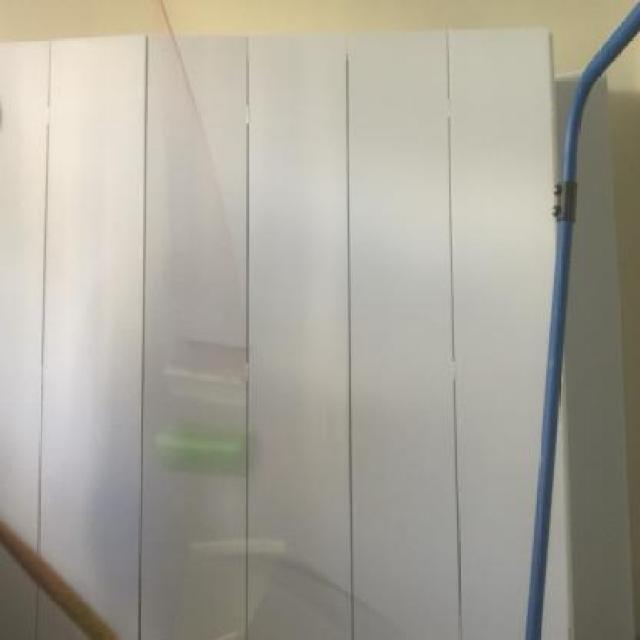baseball: (147, 392, 270, 490)
